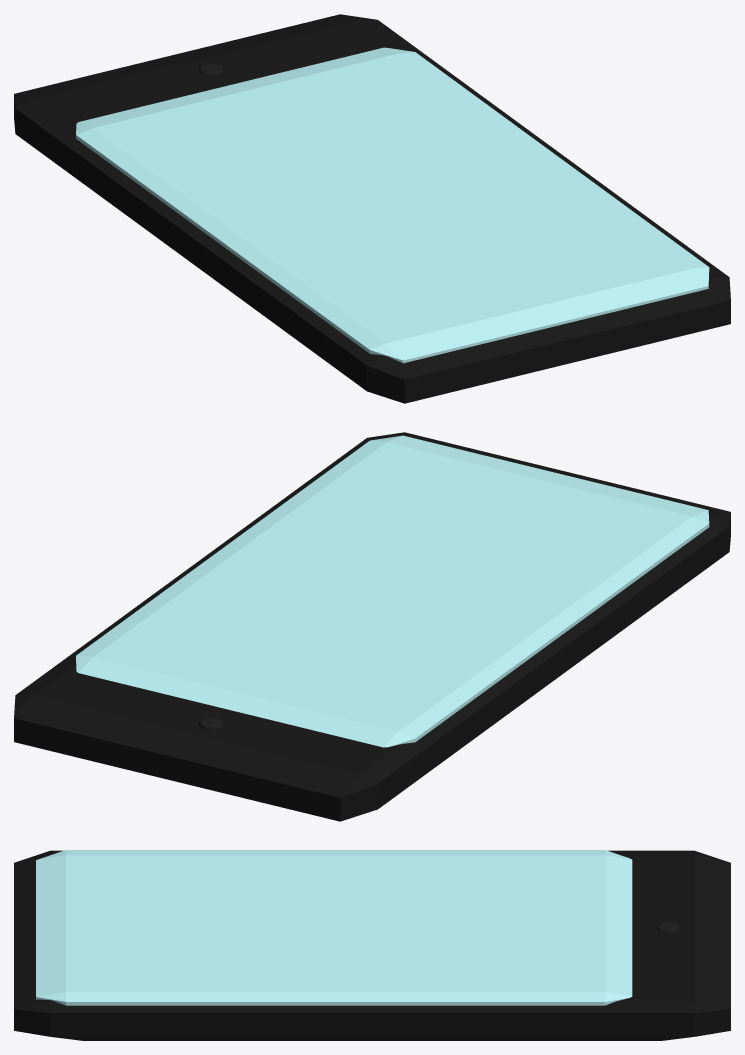
The model's file is DataPad.fbx.
3 renders of one model, top to bottom at view 1: azimuth 30°, elevation 25°; view 2: azimuth 150°, elevation 25°; view 3: azimuth 270°, elevation 25°, orthographic. The views are drawn at different scales.
Parts seen in each view (by area): view 1: DataPad; view 2: DataPad; view 3: DataPad.
Part boxes in pixels (bbox=[...]): DataPad: bbox=[14, 14, 730, 403]; DataPad: bbox=[14, 432, 730, 821]; DataPad: bbox=[14, 850, 730, 1040].
Bounding box in the file's own units: 1087 × 159 × 2029.
